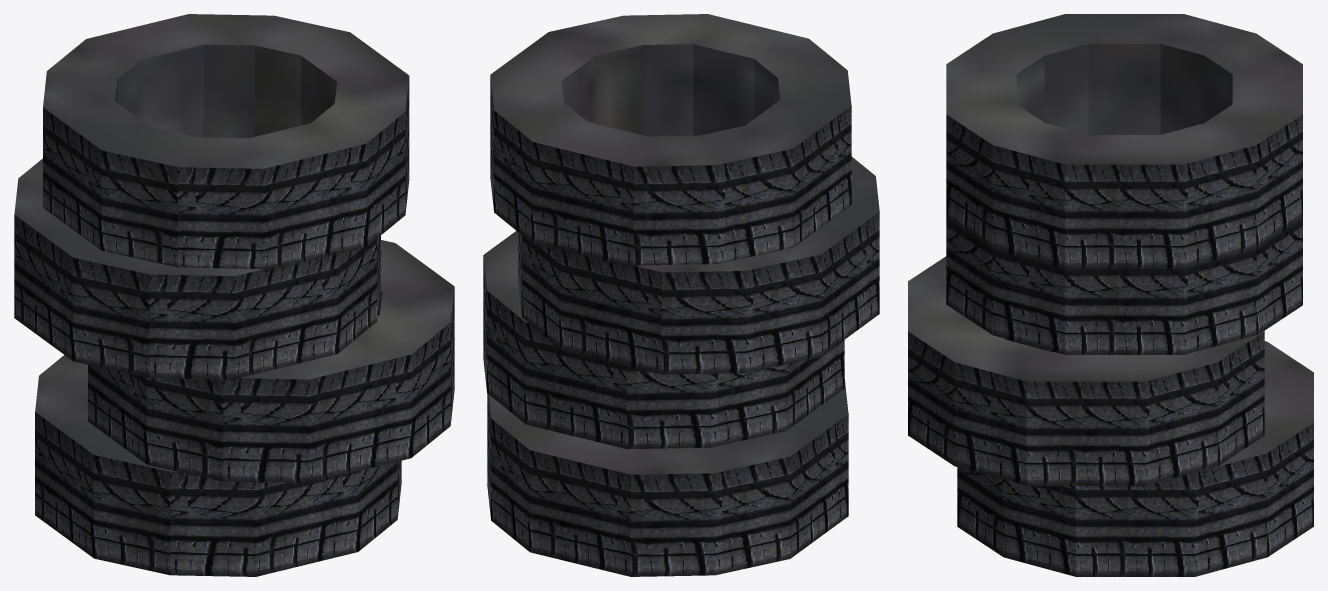
File: Tire.fbx
3 renders of one model, left to right at view 1: azimuth 30°, elevation 25°; view 2: azimuth 150°, elevation 25°; view 3: azimuth 270°, elevation 25°, orthographic.
Visible parts, largest first — view 1: Tires; view 2: Tires; view 3: Tires.
Part boxes in pixels (<box>): Tires: <box>14,14,454,576</box>; Tires: <box>483,14,879,576</box>; Tires: <box>908,14,1313,576</box>.
Size of the model in its own units: 236 by 256 by 228.
